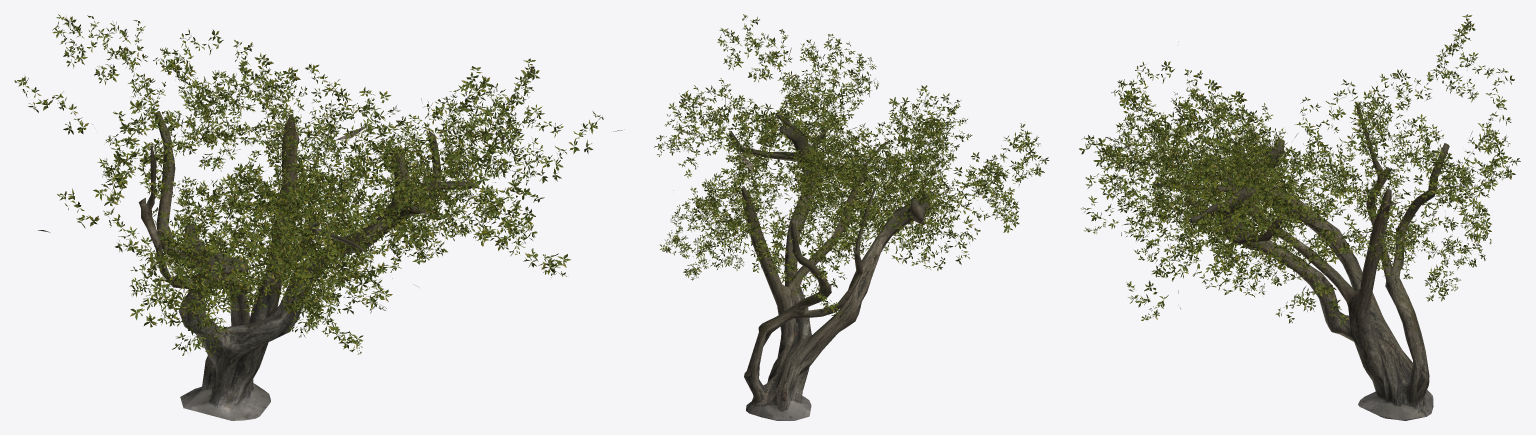
The model's file is tree.glb.
The picture shows the model from 3 angles, left to right: view 1: azimuth 30°, elevation 25°; view 2: azimuth 150°, elevation 25°; view 3: azimuth 270°, elevation 25°; orthographic projection. The views are drawn at different scales.
Parts seen in each view (by area): view 1: island_tree_02_LOD0; view 2: island_tree_02_LOD0; view 3: island_tree_02_LOD0.
Part boxes in pixels (x1,y1,x2,y2): island_tree_02_LOD0: (14,14,624,420); island_tree_02_LOD0: (654,14,1049,420); island_tree_02_LOD0: (1079,14,1520,420).
Size of the model in its own units: 4.21 by 3.41 by 4.07.
3 materials, 3 textured.
